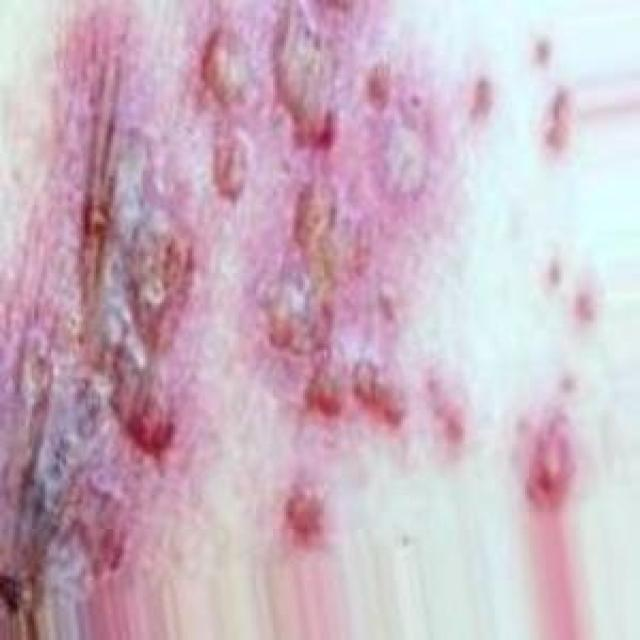Shingles: (4, 7, 495, 588)
